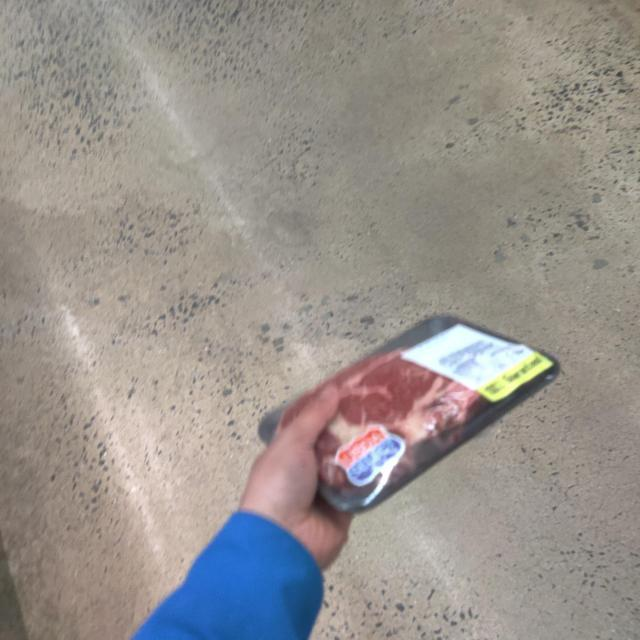Meat: (255, 316, 560, 514)
